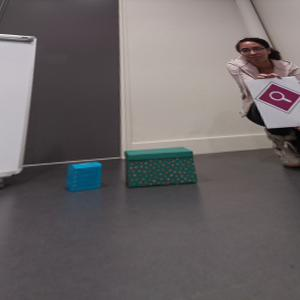big: (1, 35, 38, 184)
small: (123, 146, 197, 184), (66, 162, 103, 190)
